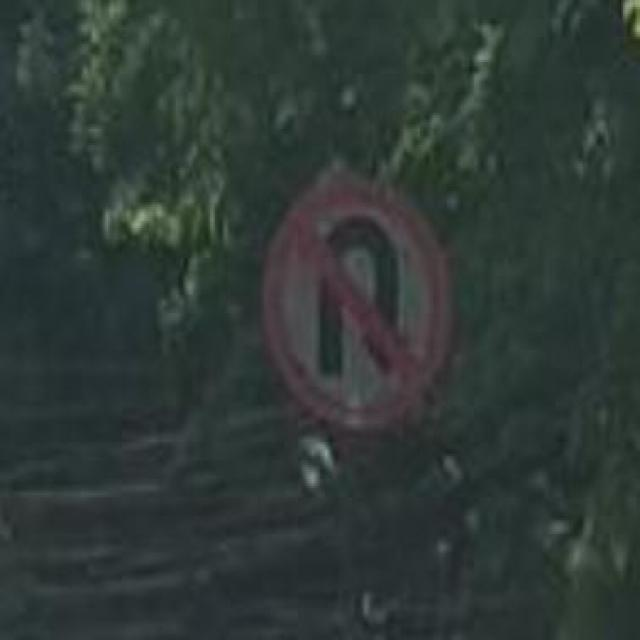traffic sign: (264, 175, 454, 428)
